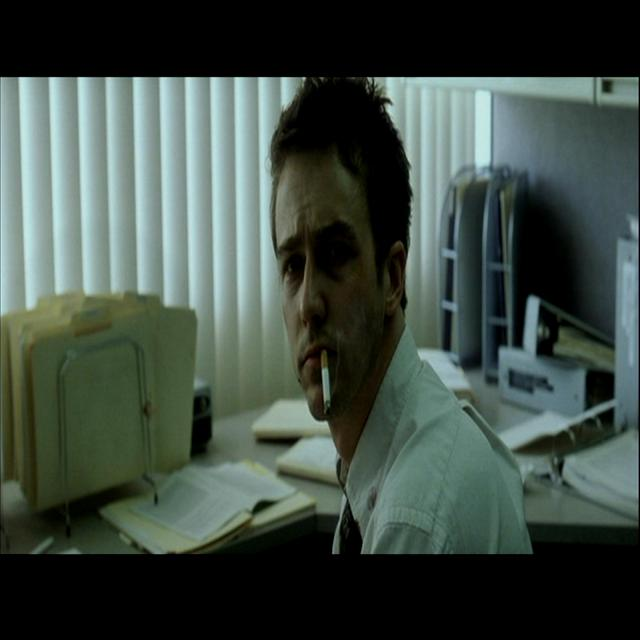smoke: (316, 330, 339, 430)
